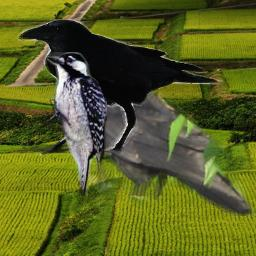Crow: (17, 19, 223, 156), (83, 60, 256, 216)
Woodpecker: (45, 52, 107, 196)
